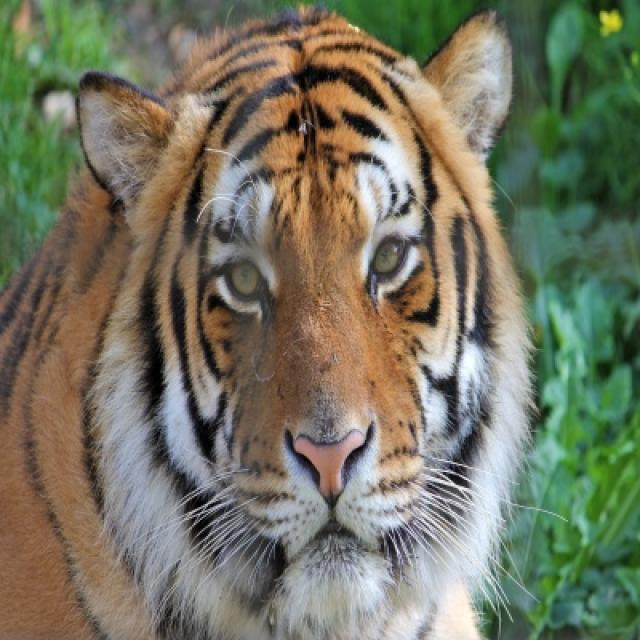Tiger: (79, 76, 519, 640)
